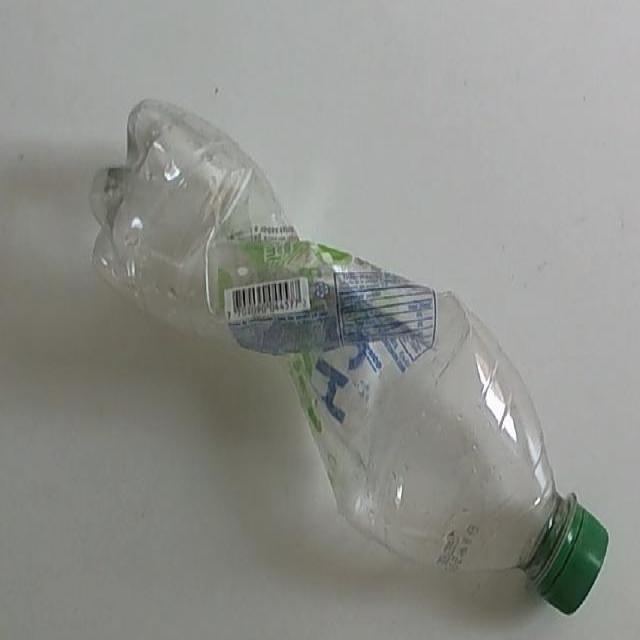defect: (84, 94, 613, 619)
